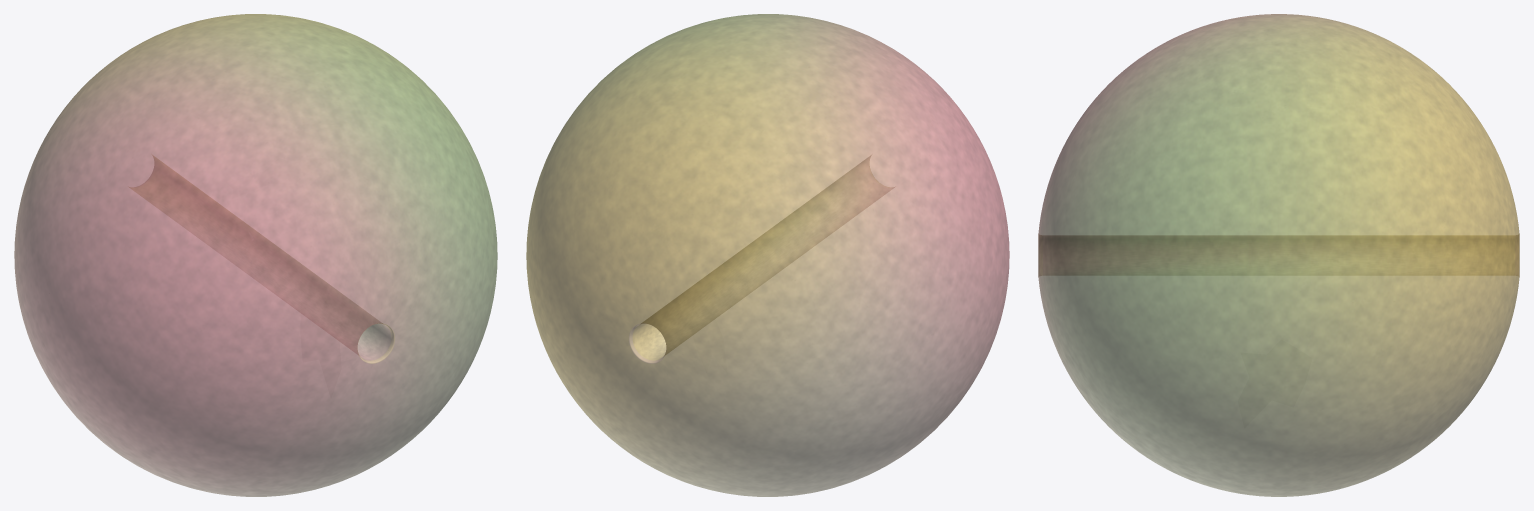
Rendered from multicolor-tourmaline-12mm.glb.
3 views of the same model, side by side, from view 1: azimuth 30°, elevation 25°; view 2: azimuth 150°, elevation 25°; view 3: azimuth 270°, elevation 25° (orthographic).
Visible parts, largest first — view 1: multicolor-tourmaline.001; view 2: multicolor-tourmaline.001; view 3: multicolor-tourmaline.001.
Boxes of the visible parts, bbox=[...] form: multicolor-tourmaline.001: bbox=[14, 14, 497, 496]; multicolor-tourmaline.001: bbox=[526, 14, 1009, 496]; multicolor-tourmaline.001: bbox=[1038, 14, 1519, 496].
Bounding box in the file's own units: 0.012 × 0.012 × 0.012.
Materials: 2 (1 with a texture image).
